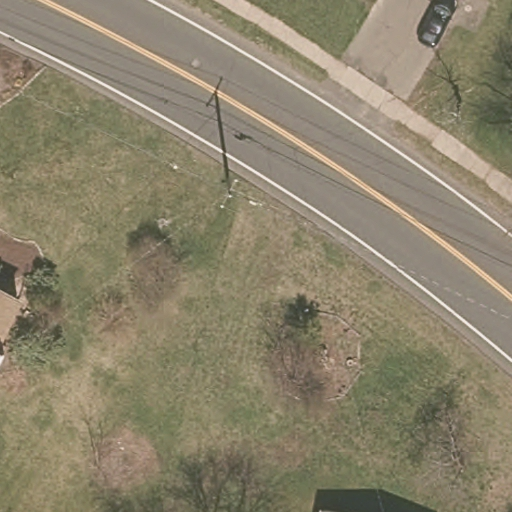DT: (216, 176, 243, 209)
